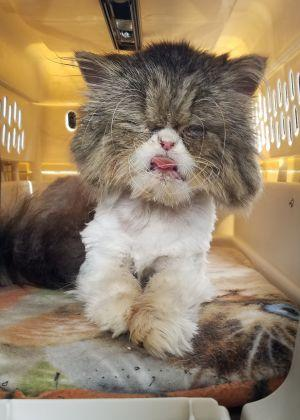persian: (64, 40, 268, 227)
